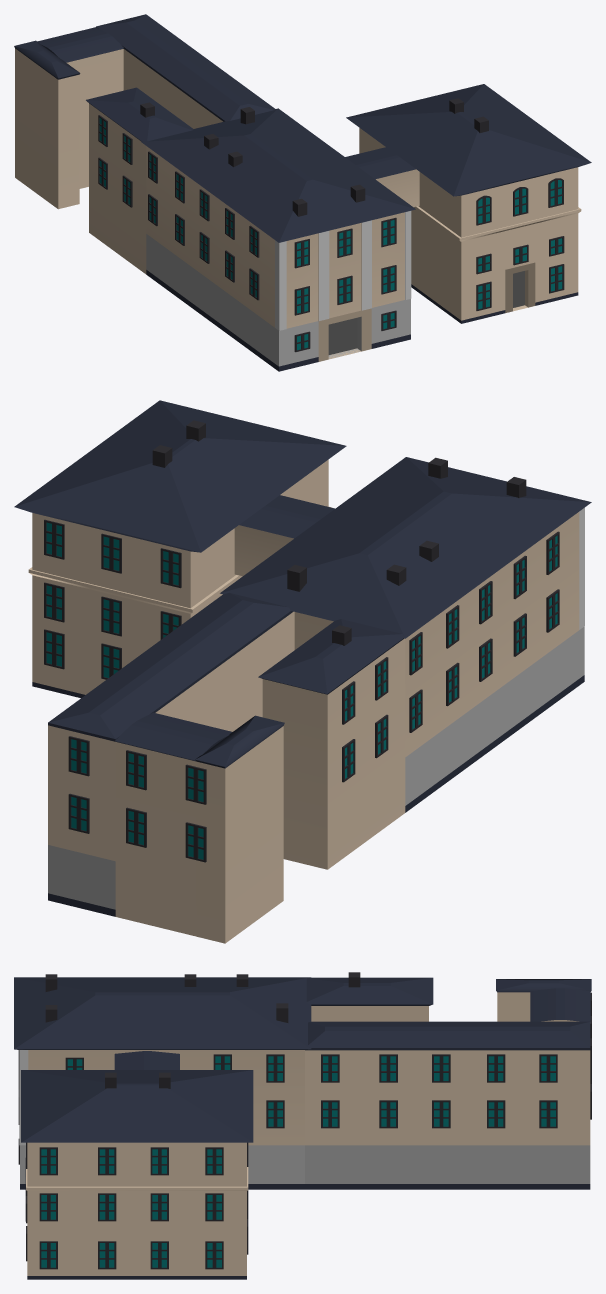
The model's file is Birger Jarls torg07.fbx.
3 renders of one model, top to bottom at view 1: azimuth 30°, elevation 25°; view 2: azimuth 150°, elevation 25°; view 3: azimuth 270°, elevation 25°, orthographic. The views are drawn at different scales.
Visible parts, largest first — view 1: pCube69; view 2: pCube69; view 3: pCube69.
Part boxes in pixels (<box>): pCube69: <box>14,14,591,371</box>; pCube69: <box>14,400,591,943</box>; pCube69: <box>14,972,591,1279</box>.
Bounding box in the file's own units: 437 × 213 × 642.
